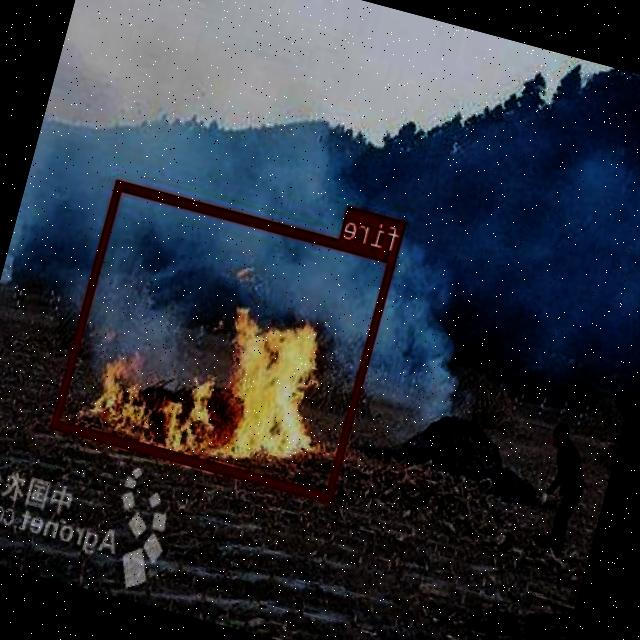fire: (51, 179, 398, 502)
